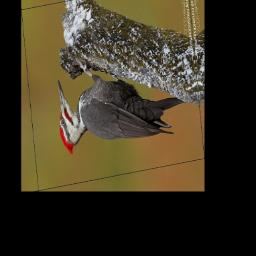Woodpecker: (53, 39, 191, 158)
